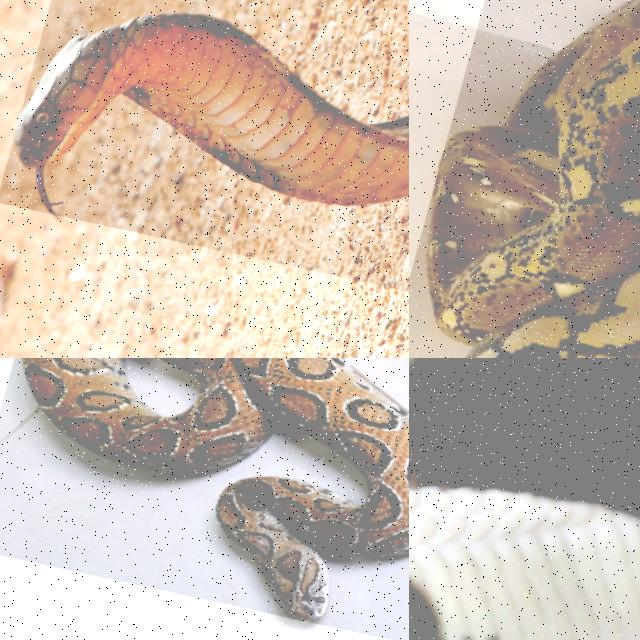Daboia siamensis: (24, 358, 408, 621)
Malayopython reticulatus: (427, 0, 639, 357)
Naja siamensis: (409, 468, 639, 639)
Ophiophagus hannah: (16, 13, 408, 213)
